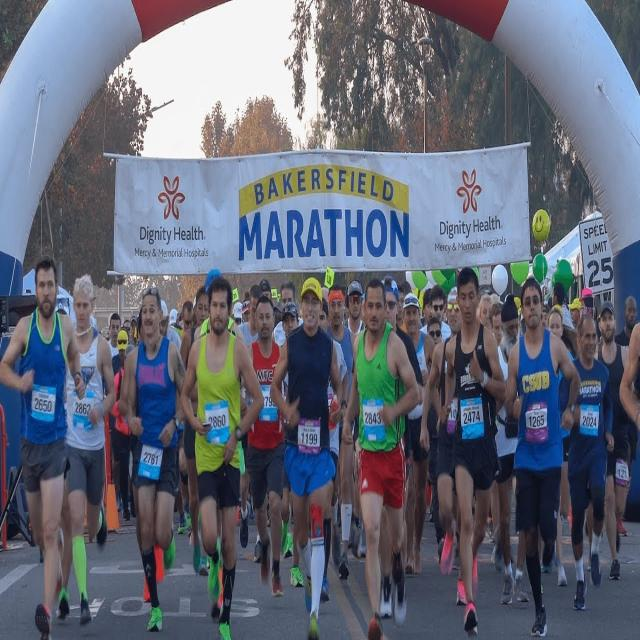Bib: (30, 390, 55, 418), (460, 400, 484, 426), (525, 406, 546, 428), (300, 422, 321, 444), (362, 407, 382, 428), (143, 447, 160, 467), (581, 414, 598, 429), (73, 401, 87, 416), (214, 413, 226, 429)
